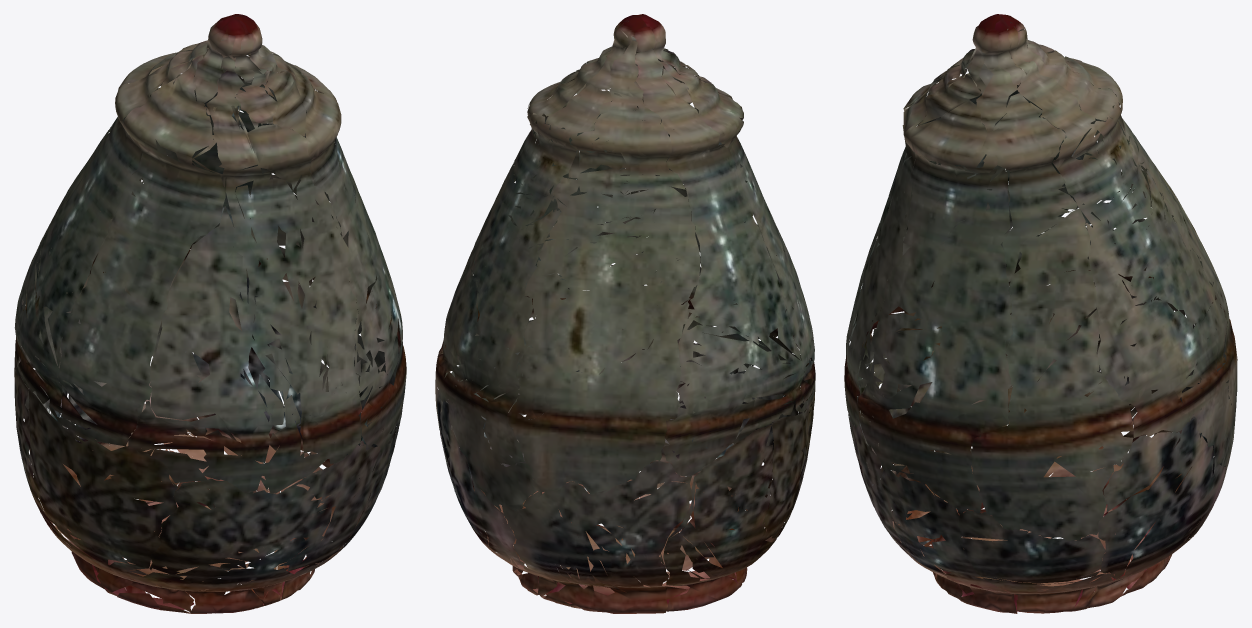
Rendered from hm-si-satchanalai-lidded-jar.glb.
The picture shows the model from 3 angles, left to right: view 1: azimuth 30°, elevation 25°; view 2: azimuth 150°, elevation 25°; view 3: azimuth 270°, elevation 25°; orthographic projection. The views are drawn at different scales.
Parts seen in each view (by area): view 1: Object_3, Object_4, Object_2, Object_6, Object_8, Object_7, Object_9, Object_5, Object_11, Object_10; view 2: Object_10, Object_9, Object_6, Object_8, Object_7, Object_4, Object_5, Object_2, Object_11, Object_3; view 3: Object_2, Object_9, Object_3, Object_5, Object_8, Object_7, Object_6, Object_10, Object_4, Object_11.
Boxes of the visible parts, x1,y1,x2,y2 form: Object_3: (74, 137, 402, 613); Object_4: (14, 55, 403, 595); Object_2: (28, 56, 406, 612); Object_6: (14, 40, 379, 591); Object_8: (20, 52, 390, 613); Object_7: (15, 71, 392, 600); Object_9: (21, 40, 380, 605); Object_5: (15, 140, 401, 590); Object_11: (15, 14, 383, 613); Object_10: (22, 45, 363, 588); Object_10: (445, 83, 776, 535); Object_9: (435, 21, 772, 564); Object_6: (448, 48, 805, 587); Object_8: (435, 48, 800, 608); Object_7: (437, 50, 801, 613); Object_4: (481, 61, 815, 599); Object_5: (437, 86, 814, 611); Object_2: (507, 50, 815, 583); Object_11: (436, 14, 786, 586); Object_3: (465, 101, 793, 581); Object_2: (844, 49, 1061, 592); Object_9: (848, 22, 1235, 579); Object_3: (844, 147, 1115, 613); Object_5: (849, 151, 1225, 608); Object_8: (848, 48, 1237, 569); Object_7: (859, 65, 1234, 601); Object_6: (848, 40, 1213, 601); Object_10: (846, 60, 1237, 553); Object_4: (868, 57, 1172, 613); Object_11: (844, 14, 1214, 590).
Bounding box in the file's own units: 0.11 × 0.175 × 0.1108.
1 material, 1 textured.
